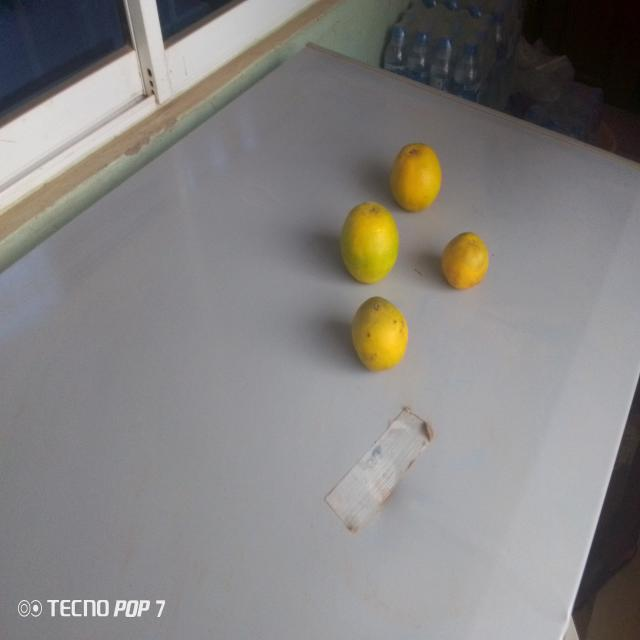Ripe orange: (350, 281, 419, 394), (337, 194, 401, 288), (381, 143, 444, 215), (438, 227, 490, 302)
